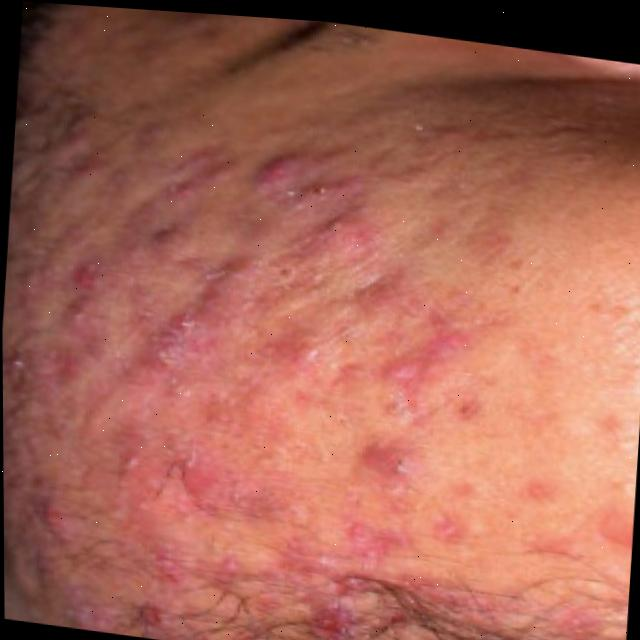Acne: (27, 88, 640, 640)
